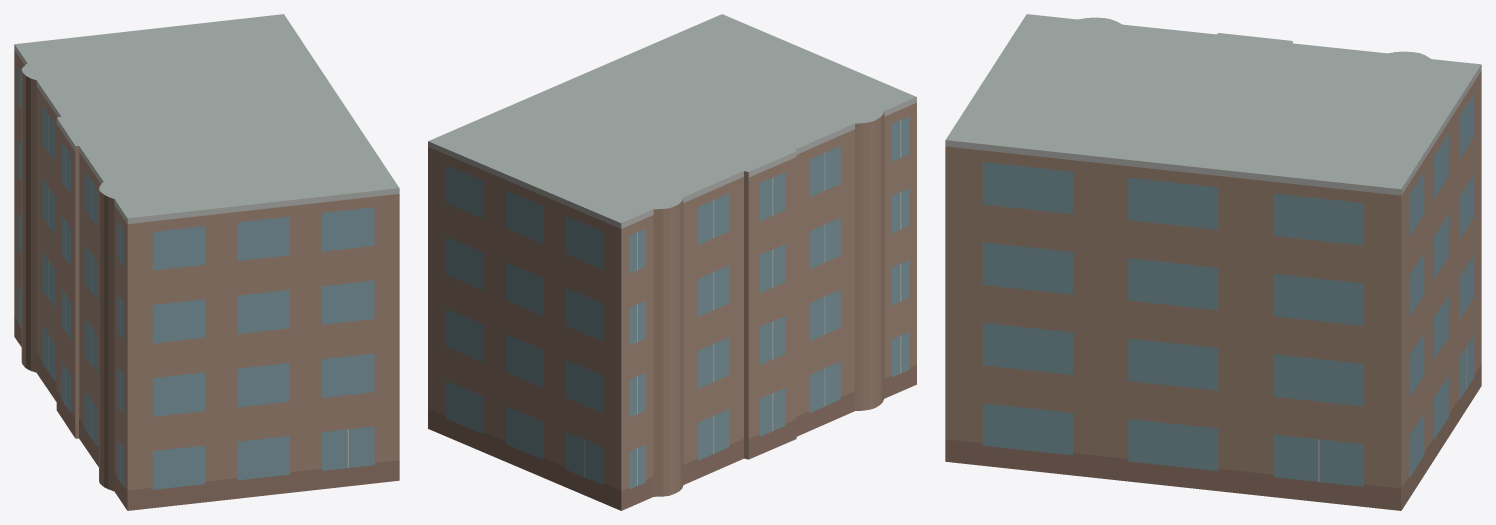
Rendered from survey-upis-32820855.glb.
3 renders of one model, left to right at view 1: azimuth 30°, elevation 25°; view 2: azimuth 150°, elevation 25°; view 3: azimuth 270°, elevation 25°, orthographic. The views are drawn at different scales.
Visible parts, largest first — view 1: survey-upis-32820855.tmp; view 2: survey-upis-32820855.tmp; view 3: survey-upis-32820855.tmp.
Part boxes in pixels (x1,y1,x2,y2): survey-upis-32820855.tmp: (14, 14, 399, 510); survey-upis-32820855.tmp: (428, 14, 916, 510); survey-upis-32820855.tmp: (945, 14, 1481, 510).
Bounding box in the file's own units: 14.57 × 12.45 × 18.82.
